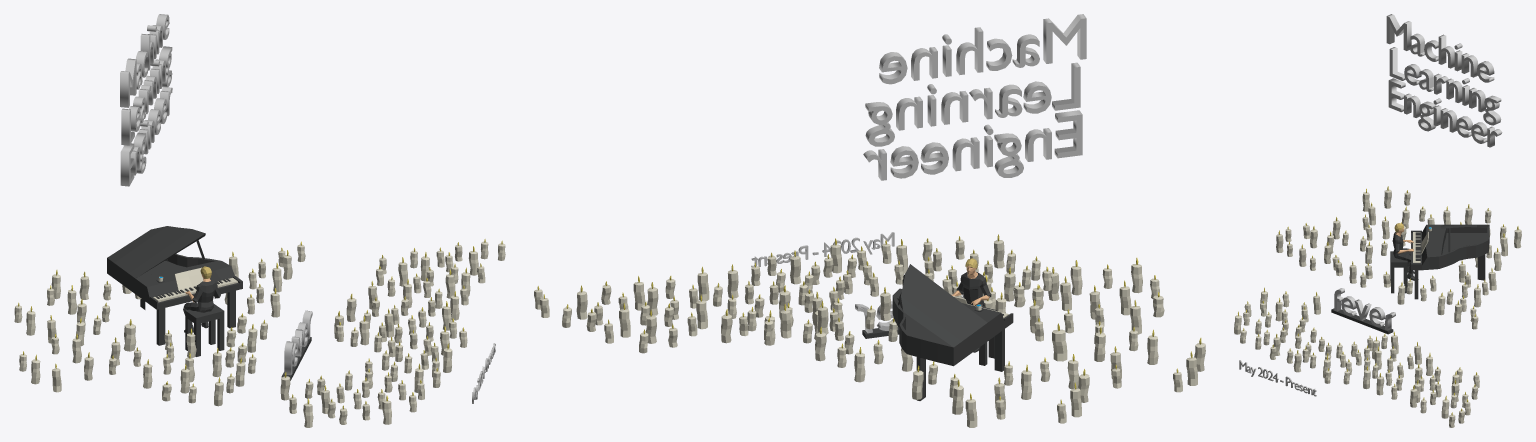
Rendered from candle.glb.
The picture shows the model from 3 angles, left to right: view 1: azimuth 30°, elevation 25°; view 2: azimuth 150°, elevation 25°; view 3: azimuth 270°, elevation 25°; orthographic projection. The views are drawn at different scales.
Visible parts, largest first — view 1: Cube.003, Text, Cube.001, male, Text.002; view 2: Text, Cube.003, male, Text.001; view 3: Text, Cube.003, Text.002, male, Text.001, Cube.001, Cube.
Boxes of the visible parts, bbox=[...] form: Cube.003: bbox=[107, 226, 242, 345]; Text: bbox=[120, 14, 172, 186]; Cube.001: bbox=[185, 304, 224, 356]; male: bbox=[183, 266, 220, 332]; Text.002: bbox=[284, 310, 312, 375]; Text: bbox=[863, 14, 1086, 180]; Cube.003: bbox=[892, 264, 1013, 400]; male: bbox=[951, 258, 991, 352]; Text.001: bbox=[751, 232, 894, 267]; Text: bbox=[1386, 14, 1502, 147]; Cube.003: bbox=[1411, 224, 1489, 299]; Text.002: bbox=[1334, 288, 1395, 330]; male: bbox=[1392, 223, 1418, 280]; Text.001: bbox=[1239, 360, 1316, 396]; Cube.001: bbox=[1390, 251, 1407, 293]; Cube: bbox=[1331, 308, 1393, 334].
Bounding box in the file's own units: 7.47 × 4.55 × 4.58.
